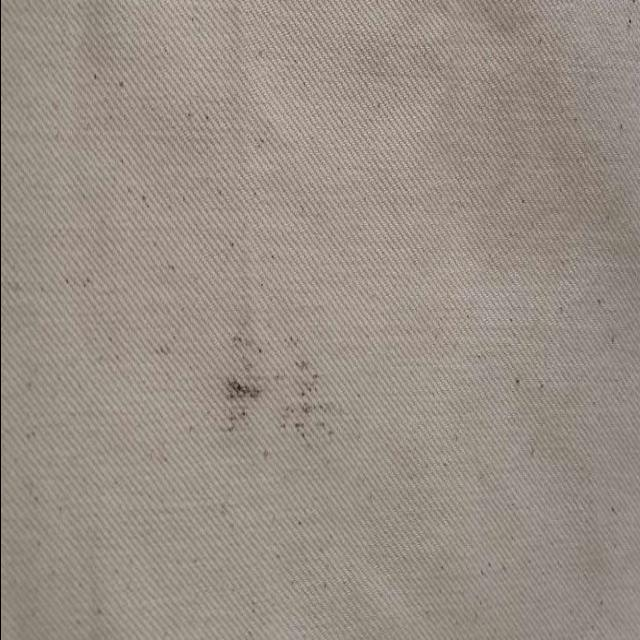taaaches: (274, 344, 334, 472), (212, 334, 264, 454)
